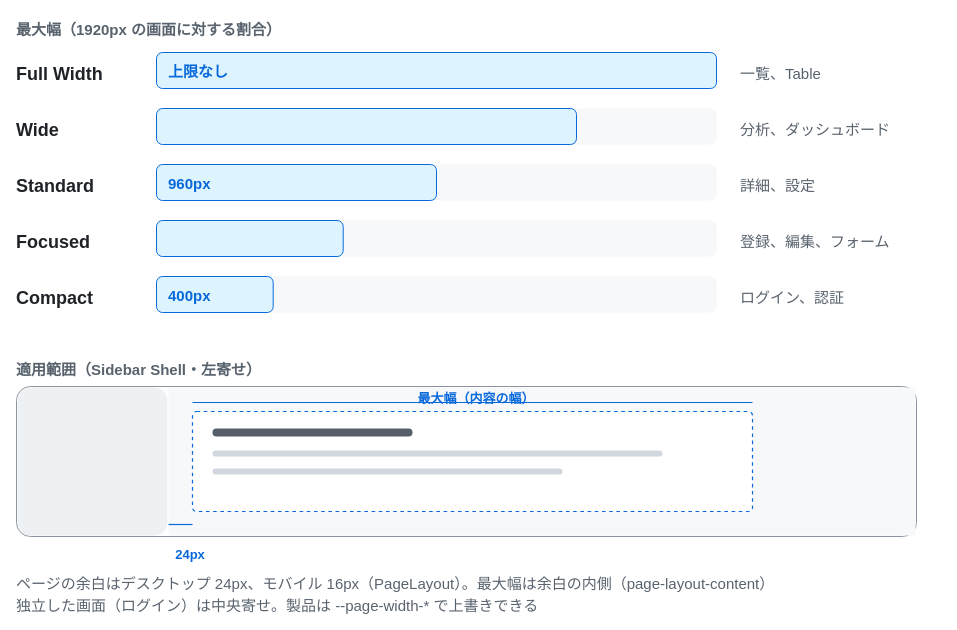
Some shapes in this 957 by 630 pixel diagram are drawn without their labels. The centre of each missing label's shape, as x and y in pixels:
"1,440px" goes at (x=366, y=126).
"640px" goes at (x=249, y=238).
